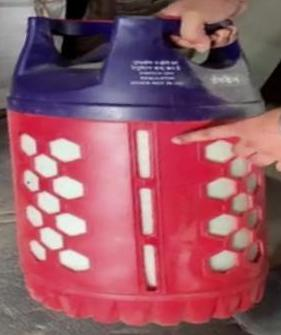cylinder: (1, 1, 281, 335)
